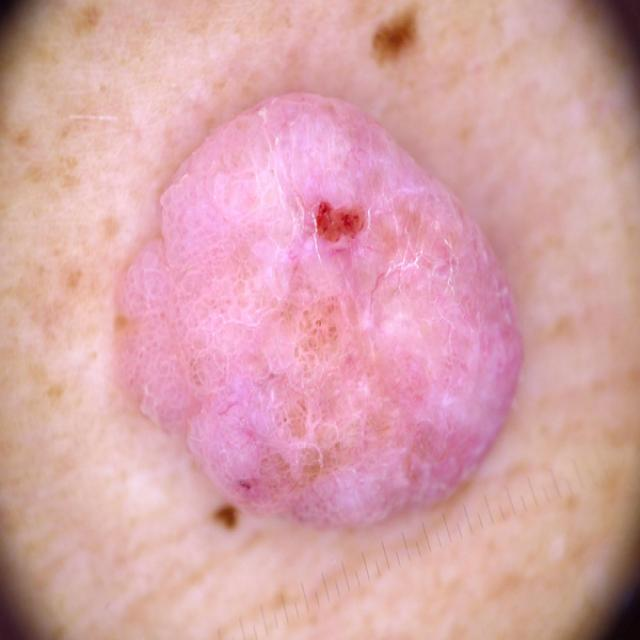Skin-Cancer Basal cell carcinoma: (54, 39, 565, 587)
